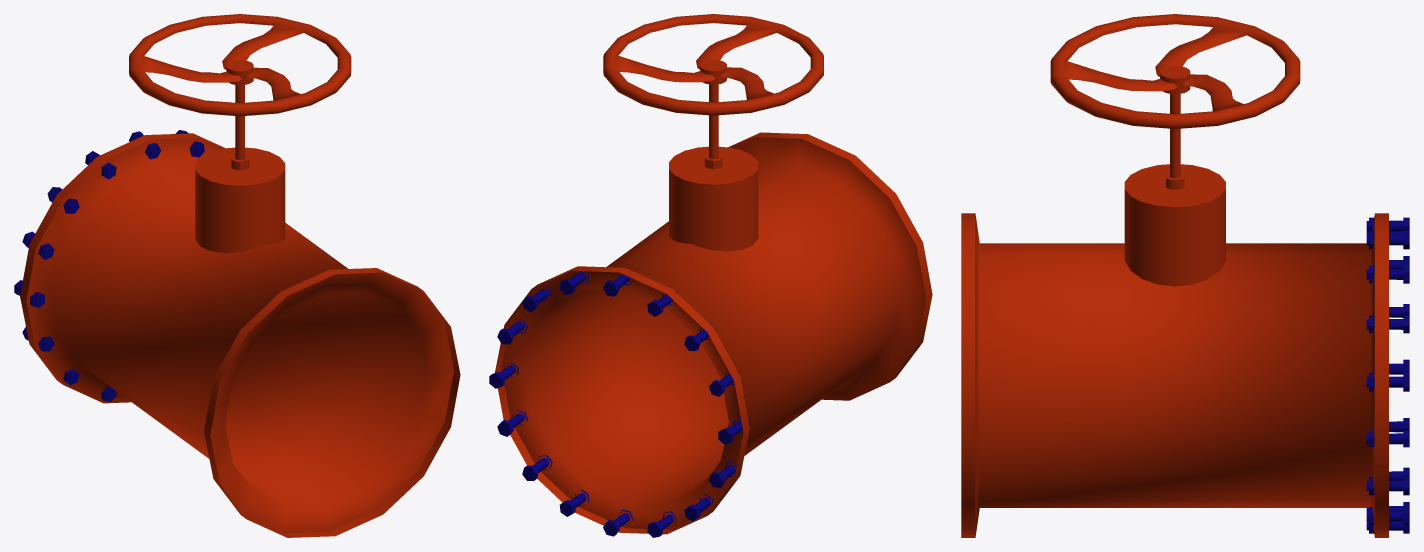
File: MSP_Valve02_BoltX17_02_LOD0.FBX
3 renders of one model, left to right at view 1: azimuth 30°, elevation 25°; view 2: azimuth 150°, elevation 25°; view 3: azimuth 270°, elevation 25°, orthographic. The views are drawn at different scales.
Visible parts, largest first — view 1: PipeValve_up1_01_LOD0, Valve_02_LOD0, Bolt_03_LOD0; view 2: PipeValve_up1_01_LOD0, Valve_02_LOD0, Bolt_03_LOD0; view 3: PipeValve_up1_01_LOD0, Valve_02_LOD0, Bolt_03_LOD0.
Boxes of the visible parts, <box> form: PipeValve_up1_01_LOD0: <box>20,60,460,537</box>; Valve_02_LOD0: <box>129,14,351,116</box>; Bolt_03_LOD0: <box>14,130,204,401</box>; PipeValve_up1_01_LOD0: <box>495,59,932,534</box>; Valve_02_LOD0: <box>603,14,823,115</box>; Bolt_03_LOD0: <box>489,271,748,537</box>; PipeValve_up1_01_LOD0: <box>961,65,1388,537</box>; Valve_02_LOD0: <box>1050,14,1300,128</box>; Bolt_03_LOD0: <box>1366,217,1409,533</box>.
Size of the model in its own units: 38 by 59.02 by 52.42.
